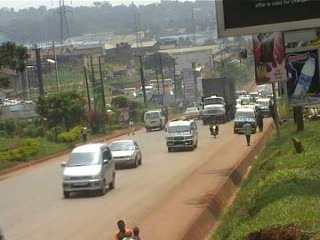Car: (55, 140, 119, 197), (107, 139, 144, 169), (180, 104, 200, 120)
Motorcycle: (208, 115, 221, 139)
